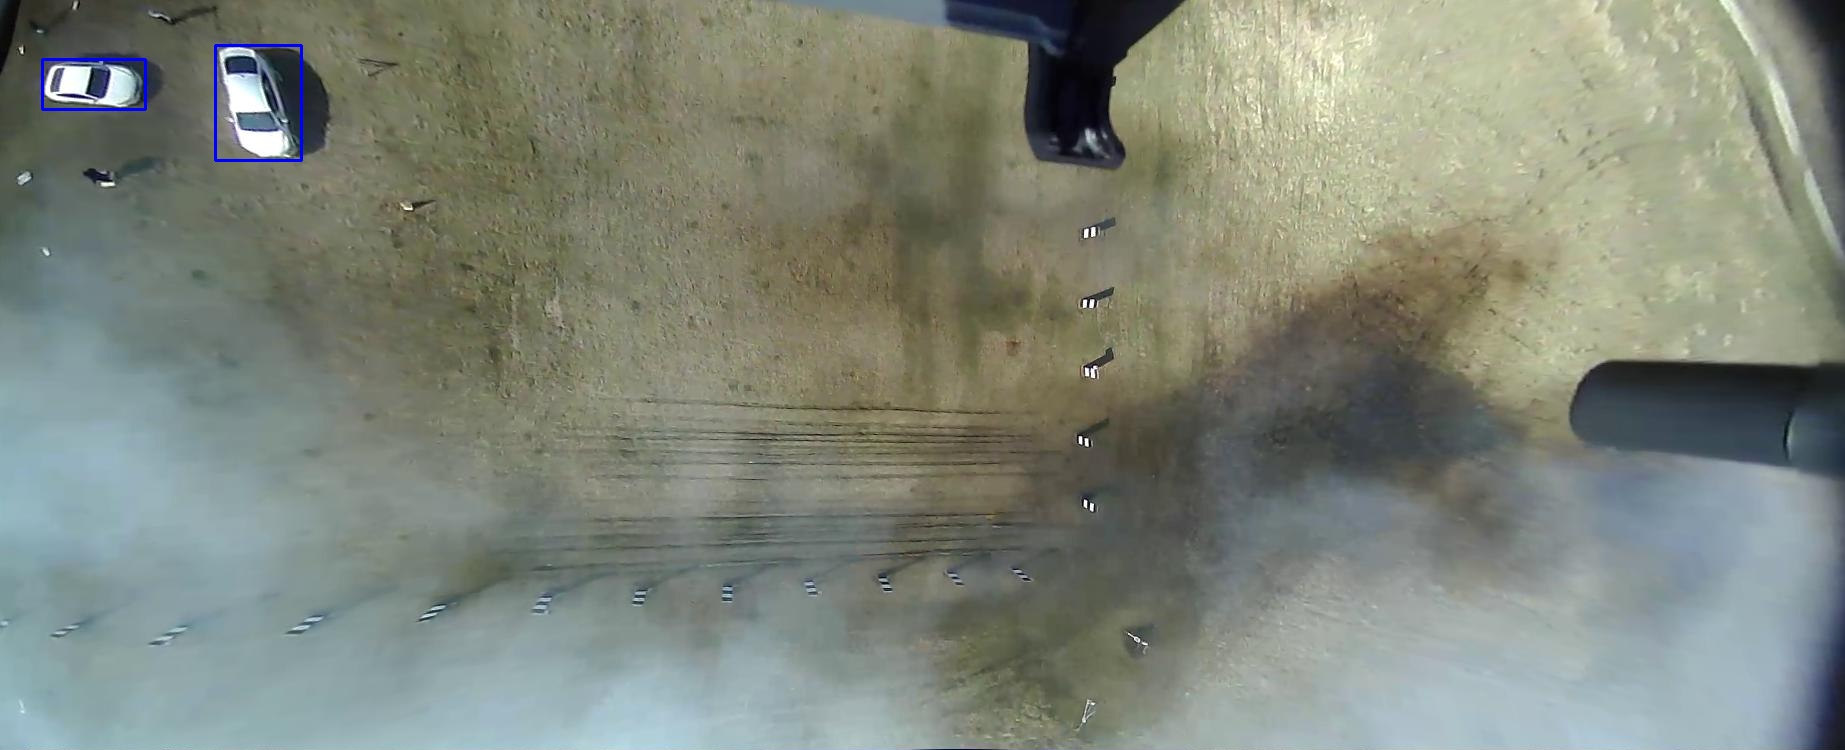vehicle: (45, 215, 160, 301), (59, 42, 109, 145)
